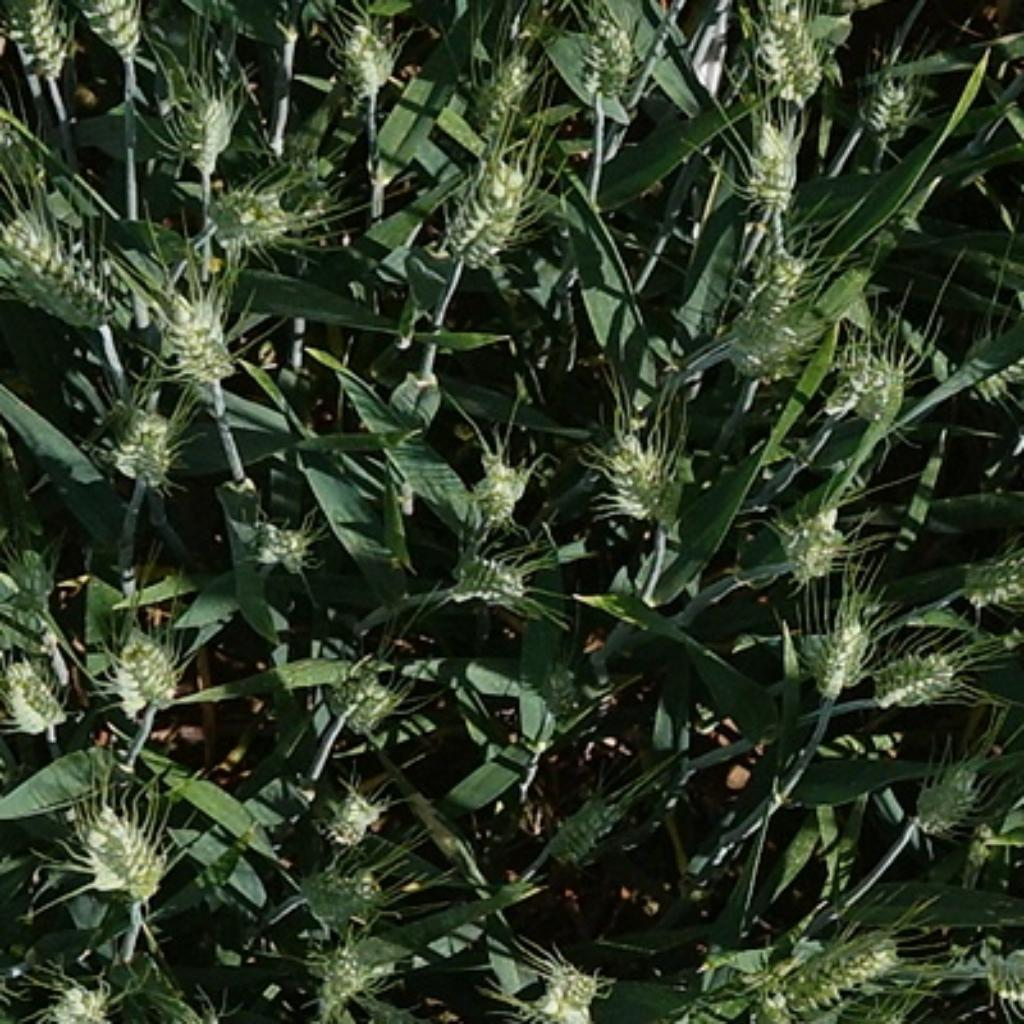0-0: (714, 227, 829, 386), (430, 143, 542, 271), (5, 207, 120, 327), (758, 928, 902, 1023), (179, 166, 335, 250), (939, 284, 1024, 419), (72, 796, 168, 896), (742, 2, 837, 102), (824, 337, 919, 435), (593, 427, 686, 527), (537, 778, 637, 870), (156, 279, 238, 389), (94, 394, 184, 488), (97, 619, 186, 714), (793, 601, 875, 696), (865, 637, 970, 711), (312, 652, 401, 737), (734, 115, 808, 217), (455, 48, 537, 140), (308, 942, 403, 1021), (770, 494, 852, 583), (903, 755, 990, 837), (163, 81, 245, 168), (458, 442, 532, 532), (2, 652, 79, 737), (291, 857, 384, 926), (522, 949, 606, 1024), (442, 542, 535, 609), (952, 529, 1024, 614), (576, 15, 641, 109), (858, 64, 931, 143), (314, 775, 389, 849), (335, 18, 401, 99), (8, 2, 70, 84), (241, 510, 314, 572), (86, 0, 149, 62), (44, 977, 118, 1024)
